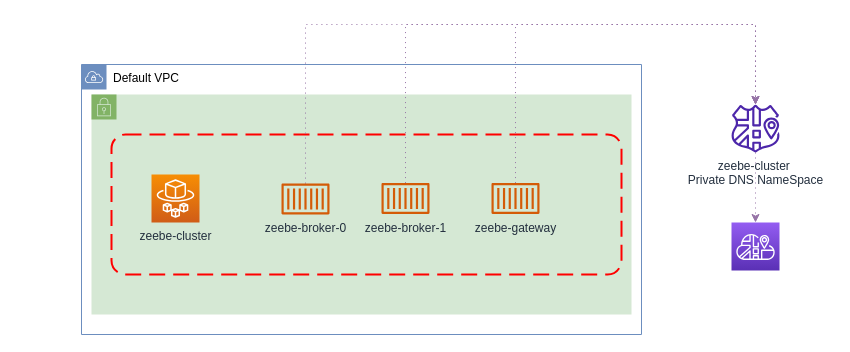
Some shapes in this 850 by 352 pixel diagram are drawn without their labels. The shapes that lost their labels are listed below. From the top down, each one's box as (x1, y1, x2, y2) in pixels, then its label:
(90, 94, 632, 314): Public subnet
(110, 133, 622, 275): Ingress IPv4 26500 - 26502 9600 5701 Egress All
(730, 222, 780, 270): Cloudmap Service Discovery
